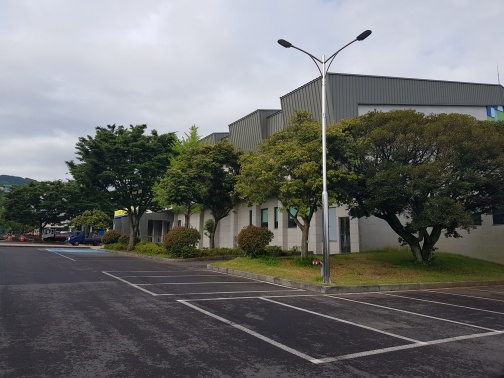Gym: (110, 70, 497, 267)
